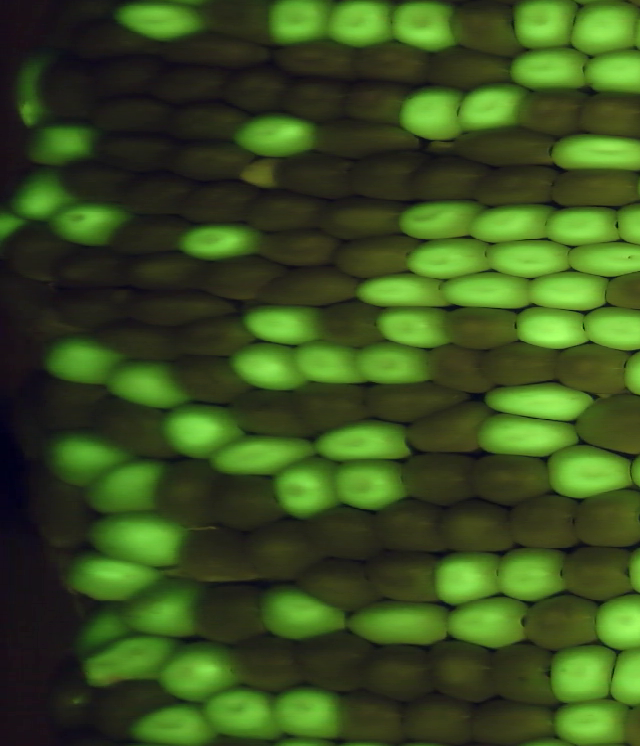fluorescent: (77, 627, 189, 695), (58, 546, 175, 611), (80, 507, 198, 570), (155, 638, 255, 708), (38, 425, 146, 488), (195, 429, 325, 481), (252, 581, 355, 645), (473, 408, 591, 462), (117, 574, 211, 641), (342, 595, 456, 650), (482, 375, 604, 425), (76, 455, 171, 518), (538, 442, 640, 500), (161, 398, 250, 464), (438, 591, 535, 651), (61, 600, 140, 671), (265, 682, 355, 744), (394, 193, 500, 244), (198, 685, 294, 741), (309, 416, 418, 464), (228, 111, 327, 163), (41, 332, 128, 390), (107, 1, 220, 45), (102, 352, 189, 409), (5, 164, 82, 228), (393, 79, 470, 143), (544, 127, 640, 178), (224, 337, 313, 392), (41, 199, 135, 251), (545, 641, 621, 705), (350, 268, 458, 313), (172, 217, 273, 265), (505, 41, 596, 94), (432, 548, 508, 610), (563, 1, 640, 61), (453, 80, 536, 135), (235, 298, 331, 345), (483, 232, 575, 281), (495, 545, 572, 603), (125, 699, 220, 746), (401, 235, 498, 281), (522, 268, 612, 317), (289, 335, 370, 389), (514, 301, 599, 352), (464, 201, 562, 245), (349, 335, 435, 385), (548, 696, 634, 746), (388, 1, 462, 58), (506, 1, 585, 54), (438, 268, 527, 315), (10, 46, 58, 132), (538, 205, 627, 251), (372, 301, 454, 350), (324, 1, 401, 53), (23, 117, 103, 167), (263, 1, 334, 53), (588, 586, 640, 653), (578, 45, 640, 101), (564, 238, 640, 281), (584, 305, 640, 355), (607, 643, 640, 708), (1, 206, 33, 248)
nonfluorescent: (19, 458, 104, 546), (87, 393, 184, 463), (86, 675, 189, 740), (109, 284, 245, 333), (23, 366, 116, 432), (291, 628, 384, 694), (401, 399, 499, 461), (1, 272, 84, 344), (484, 638, 566, 710), (426, 635, 510, 705), (225, 385, 321, 443), (266, 33, 367, 88), (449, 122, 561, 171), (225, 628, 312, 691), (361, 379, 474, 427), (355, 638, 441, 701), (368, 494, 455, 556), (86, 313, 184, 367), (364, 545, 448, 608), (519, 592, 607, 652), (399, 150, 493, 206), (253, 265, 367, 311), (41, 654, 110, 729), (210, 469, 293, 531), (164, 352, 259, 406), (193, 578, 273, 642), (161, 132, 263, 182), (446, 1, 533, 59), (291, 379, 381, 435), (328, 229, 428, 279), (431, 496, 517, 554), (347, 146, 429, 206), (466, 451, 557, 505), (301, 503, 392, 557), (295, 555, 386, 609), (549, 342, 635, 399), (569, 485, 640, 554), (179, 525, 266, 581), (4, 217, 80, 281), (424, 45, 519, 96), (238, 519, 326, 574), (166, 29, 271, 75), (153, 456, 223, 525), (193, 251, 289, 301), (333, 686, 413, 746), (167, 311, 261, 362), (274, 149, 364, 202), (420, 339, 499, 399), (559, 544, 639, 603), (396, 690, 480, 746), (400, 449, 484, 504), (29, 1, 116, 54), (175, 176, 263, 228), (574, 390, 640, 459), (347, 39, 436, 90), (468, 696, 558, 746), (440, 302, 526, 354), (509, 489, 581, 551), (51, 281, 135, 334), (32, 55, 101, 119), (219, 58, 291, 119), (547, 162, 640, 209), (310, 116, 425, 154), (312, 194, 407, 240), (479, 339, 565, 389), (66, 19, 158, 65), (516, 83, 595, 136), (122, 248, 213, 294), (165, 98, 258, 143), (315, 299, 391, 354), (89, 126, 176, 174), (471, 160, 561, 206), (151, 59, 234, 108), (51, 244, 136, 291), (279, 71, 351, 126), (256, 225, 346, 269), (54, 157, 138, 204), (85, 54, 172, 99), (107, 210, 195, 254), (196, 1, 280, 46), (341, 73, 411, 127), (243, 189, 327, 234), (121, 171, 201, 218), (94, 91, 178, 135), (578, 86, 640, 141), (602, 266, 640, 314)
